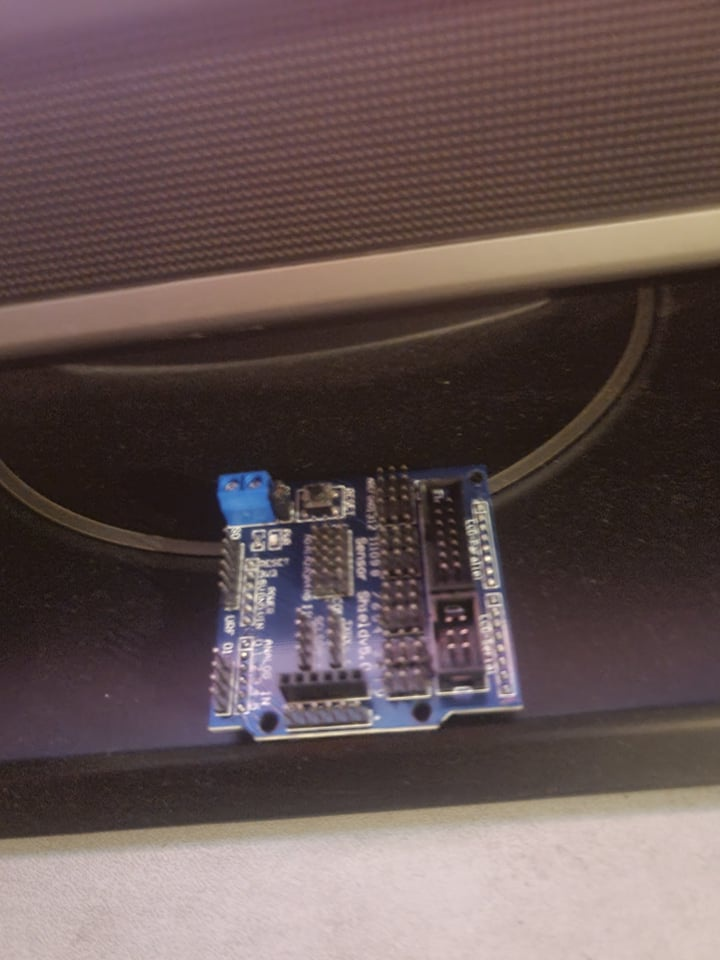5V EXPANSION: (209, 465, 526, 743)
